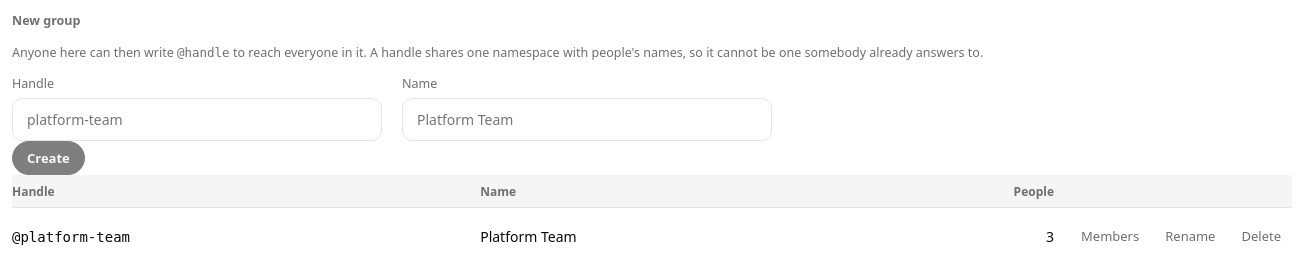
user groups › name the field that renames one after the group
The width and height of the screenshot is (1304, 280).
Click the button "Rename". click: x=1190, y=236
box: [1154,220,1226,252]
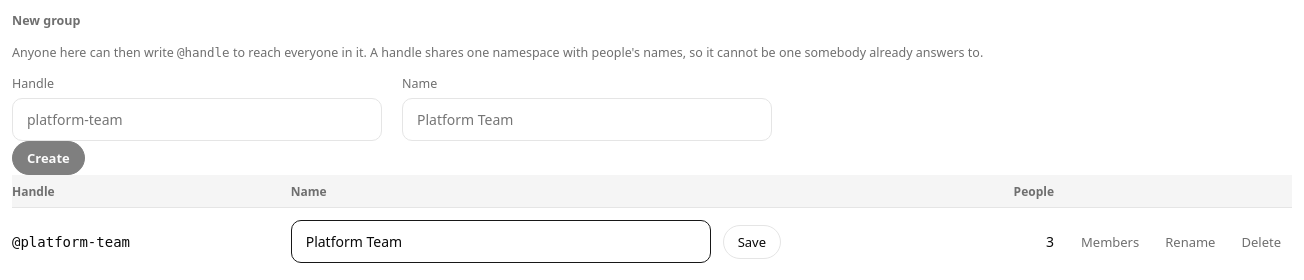
Result: the field named "New name for @platform-team" holds "Platform Team" at [291,220,711,263]
